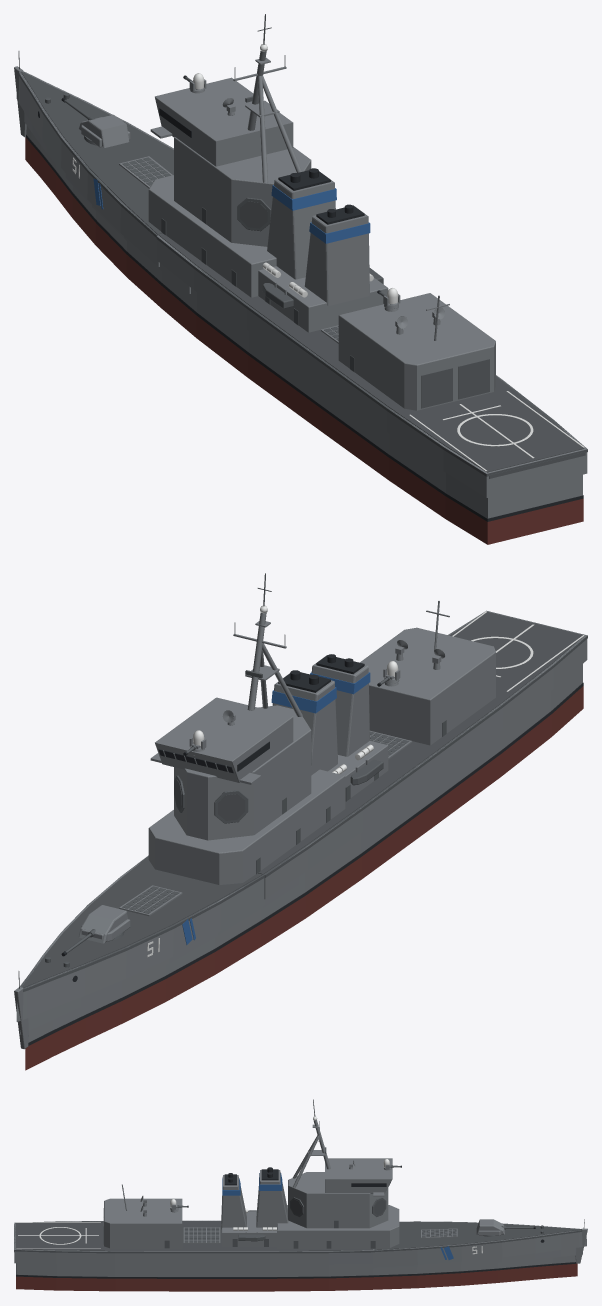
File: destroyer.glb
The picture shows the model from 3 angles, top to bottom: view 1: azimuth 30°, elevation 25°; view 2: azimuth 150°, elevation 25°; view 3: azimuth 270°, elevation 25°; orthographic projection. The views are drawn at different scales.
Parts seen in each view (by area): view 1: hull_bottom_red, deck_aft, hangar, hull_lower, hull_upper_aft, super_spy, bridge, deck_fwd, super_01, stack_aft, hull_upper_fwd, stack_fwd (+10 smaller); view 2: hull_bottom_red, hangar, hull_lower, super_01, deck_aft, super_spy, hull_upper_aft, deck_fwd, hull_upper_fwd, bridge, stack_aft, stack_fwd (+9 smaller); view 3: hull_bottom_red, hull_lower, hull_upper_aft, deck_aft, hangar, super_spy, hull_upper_fwd, super_01, deck_fwd, bridge, hull_boottop, stack_fwd (+9 smaller).
Part boxes in pixels (bbox=[...]): hull_bottom_red: bbox=[25, 137, 583, 544]; deck_aft: bbox=[159, 234, 584, 472]; hangar: bbox=[338, 293, 495, 410]; hull_lower: bbox=[26, 125, 582, 518]; hull_upper_aft: bbox=[157, 235, 587, 497]; super_spy: bbox=[174, 137, 311, 246]; bridge: bbox=[155, 77, 293, 166]; deck_fwd: bbox=[20, 71, 173, 234]; super_01: bbox=[148, 175, 276, 297]; stack_aft: bbox=[304, 210, 369, 305]; hull_upper_fwd: bbox=[16, 72, 173, 266]; stack_fwd: bbox=[267, 171, 335, 279]; hull_bottom_red: bbox=[25, 686, 583, 1070]; hangar: bbox=[360, 627, 495, 745]; hull_lower: bbox=[28, 664, 582, 1042]; super_01: bbox=[148, 769, 345, 884]; deck_aft: bbox=[258, 612, 582, 874]; super_spy: bbox=[174, 705, 311, 840]; hull_upper_aft: bbox=[264, 611, 587, 899]; deck_fwd: bbox=[22, 857, 261, 987]; hull_upper_fwd: bbox=[16, 862, 265, 1021]; bridge: bbox=[155, 697, 293, 782]; stack_aft: bbox=[311, 657, 369, 756]; stack_fwd: bbox=[272, 675, 337, 775]; hull_bottom_red: bbox=[16, 1263, 577, 1291]; hull_lower: bbox=[16, 1255, 575, 1276]; hull_upper_aft: bbox=[14, 1220, 373, 1265]; deck_aft: bbox=[15, 1221, 373, 1251]; hangar: bbox=[104, 1198, 182, 1248]; super_spy: bbox=[288, 1172, 388, 1228]; hull_upper_fwd: bbox=[372, 1221, 586, 1267]; super_01: bbox=[277, 1205, 399, 1248]; deck_fwd: bbox=[374, 1221, 581, 1250]; bridge: bbox=[325, 1158, 392, 1193]; hull_boottop: bbox=[16, 1262, 576, 1278]; stack_fwd: bbox=[256, 1170, 288, 1227].
Size of the model in its own units: 20.12 by 53.01 by 156.
